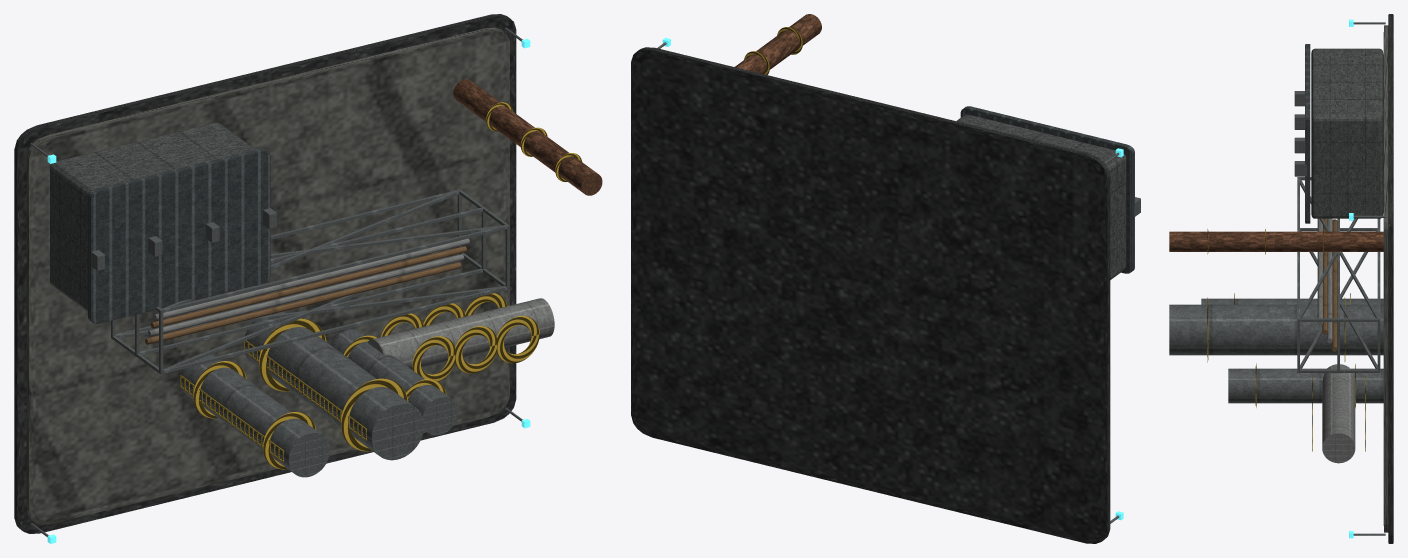
File: b-07-refinery-lod0.glb
3 renders of one model, left to right at view 1: azimuth 30°, elevation 25°; view 2: azimuth 150°, elevation 25°; view 3: azimuth 270°, elevation 25°, orthographic. The views are drawn at different scales.
Visible parts, largest first — view 1: foundation_inner_pad, refinery_control_roof, foundation, refinery_control_main_hall, distillation_column_1_vessel, distillation_column_0_vessel, flare_stack_stack, distillation_column_2_vessel, horizontal_tank_0_vessel, refinery_pipe_0_segment_1, refinery_pipe_1_segment_1, refinery_pipe_2_segment_1 (+18 smaller); view 2: foundation, refinery_control_main_hall, refinery_control_roof, flare_stack_stack; view 3: refinery_control_main_hall, distillation_column_1_vessel, flare_stack_stack, distillation_column_2_vessel, foundation, foundation_inner_pad, horizontal_tank_2_vessel, refinery_control_roof, distillation_column_0_vessel, horizontal_tank_1_vessel, horizontal_tank_0_vessel, refinery_pipe_0_segment_1 (+11 smaller).
Boxes of the visible parts, x1,y1,x2,y2 form: foundation_inner_pad: [26, 27, 509, 524]; refinery_control_roof: [88, 148, 270, 323]; foundation: [14, 14, 516, 533]; refinery_control_main_hall: [50, 122, 255, 311]; distillation_column_1_vessel: [245, 311, 424, 460]; distillation_column_0_vessel: [179, 353, 330, 477]; flare_stack_stack: [453, 79, 602, 195]; distillation_column_2_vessel: [331, 329, 458, 435]; horizontal_tank_0_vessel: [367, 321, 471, 369]; refinery_pipe_0_segment_1: [145, 262, 461, 344]; refinery_pipe_1_segment_1: [148, 254, 464, 336]; refinery_pipe_2_segment_1: [150, 246, 466, 328]; foundation: [631, 47, 1110, 543]; refinery_control_main_hall: [956, 114, 1126, 279]; refinery_control_roof: [960, 106, 1134, 273]; flare_stack_stack: [735, 14, 821, 74]; refinery_control_main_hall: [1311, 48, 1383, 218]; distillation_column_1_vessel: [1169, 304, 1383, 355]; flare_stack_stack: [1169, 231, 1383, 251]; distillation_column_2_vessel: [1228, 368, 1383, 403]; foundation: [1388, 14, 1393, 543]; foundation_inner_pad: [1383, 25, 1388, 532]; horizontal_tank_2_vessel: [1322, 398, 1355, 463]; refinery_control_roof: [1305, 44, 1310, 223]; distillation_column_0_vessel: [1201, 298, 1383, 304]; horizontal_tank_1_vessel: [1322, 381, 1355, 428]; horizontal_tank_0_vessel: [1322, 364, 1355, 407]; refinery_pipe_0_segment_1: [1332, 219, 1337, 351].
Size of what is drawn, in the model's own units: 18 by 14 by 8.38.
Materials: 11 (11 with a texture image).
